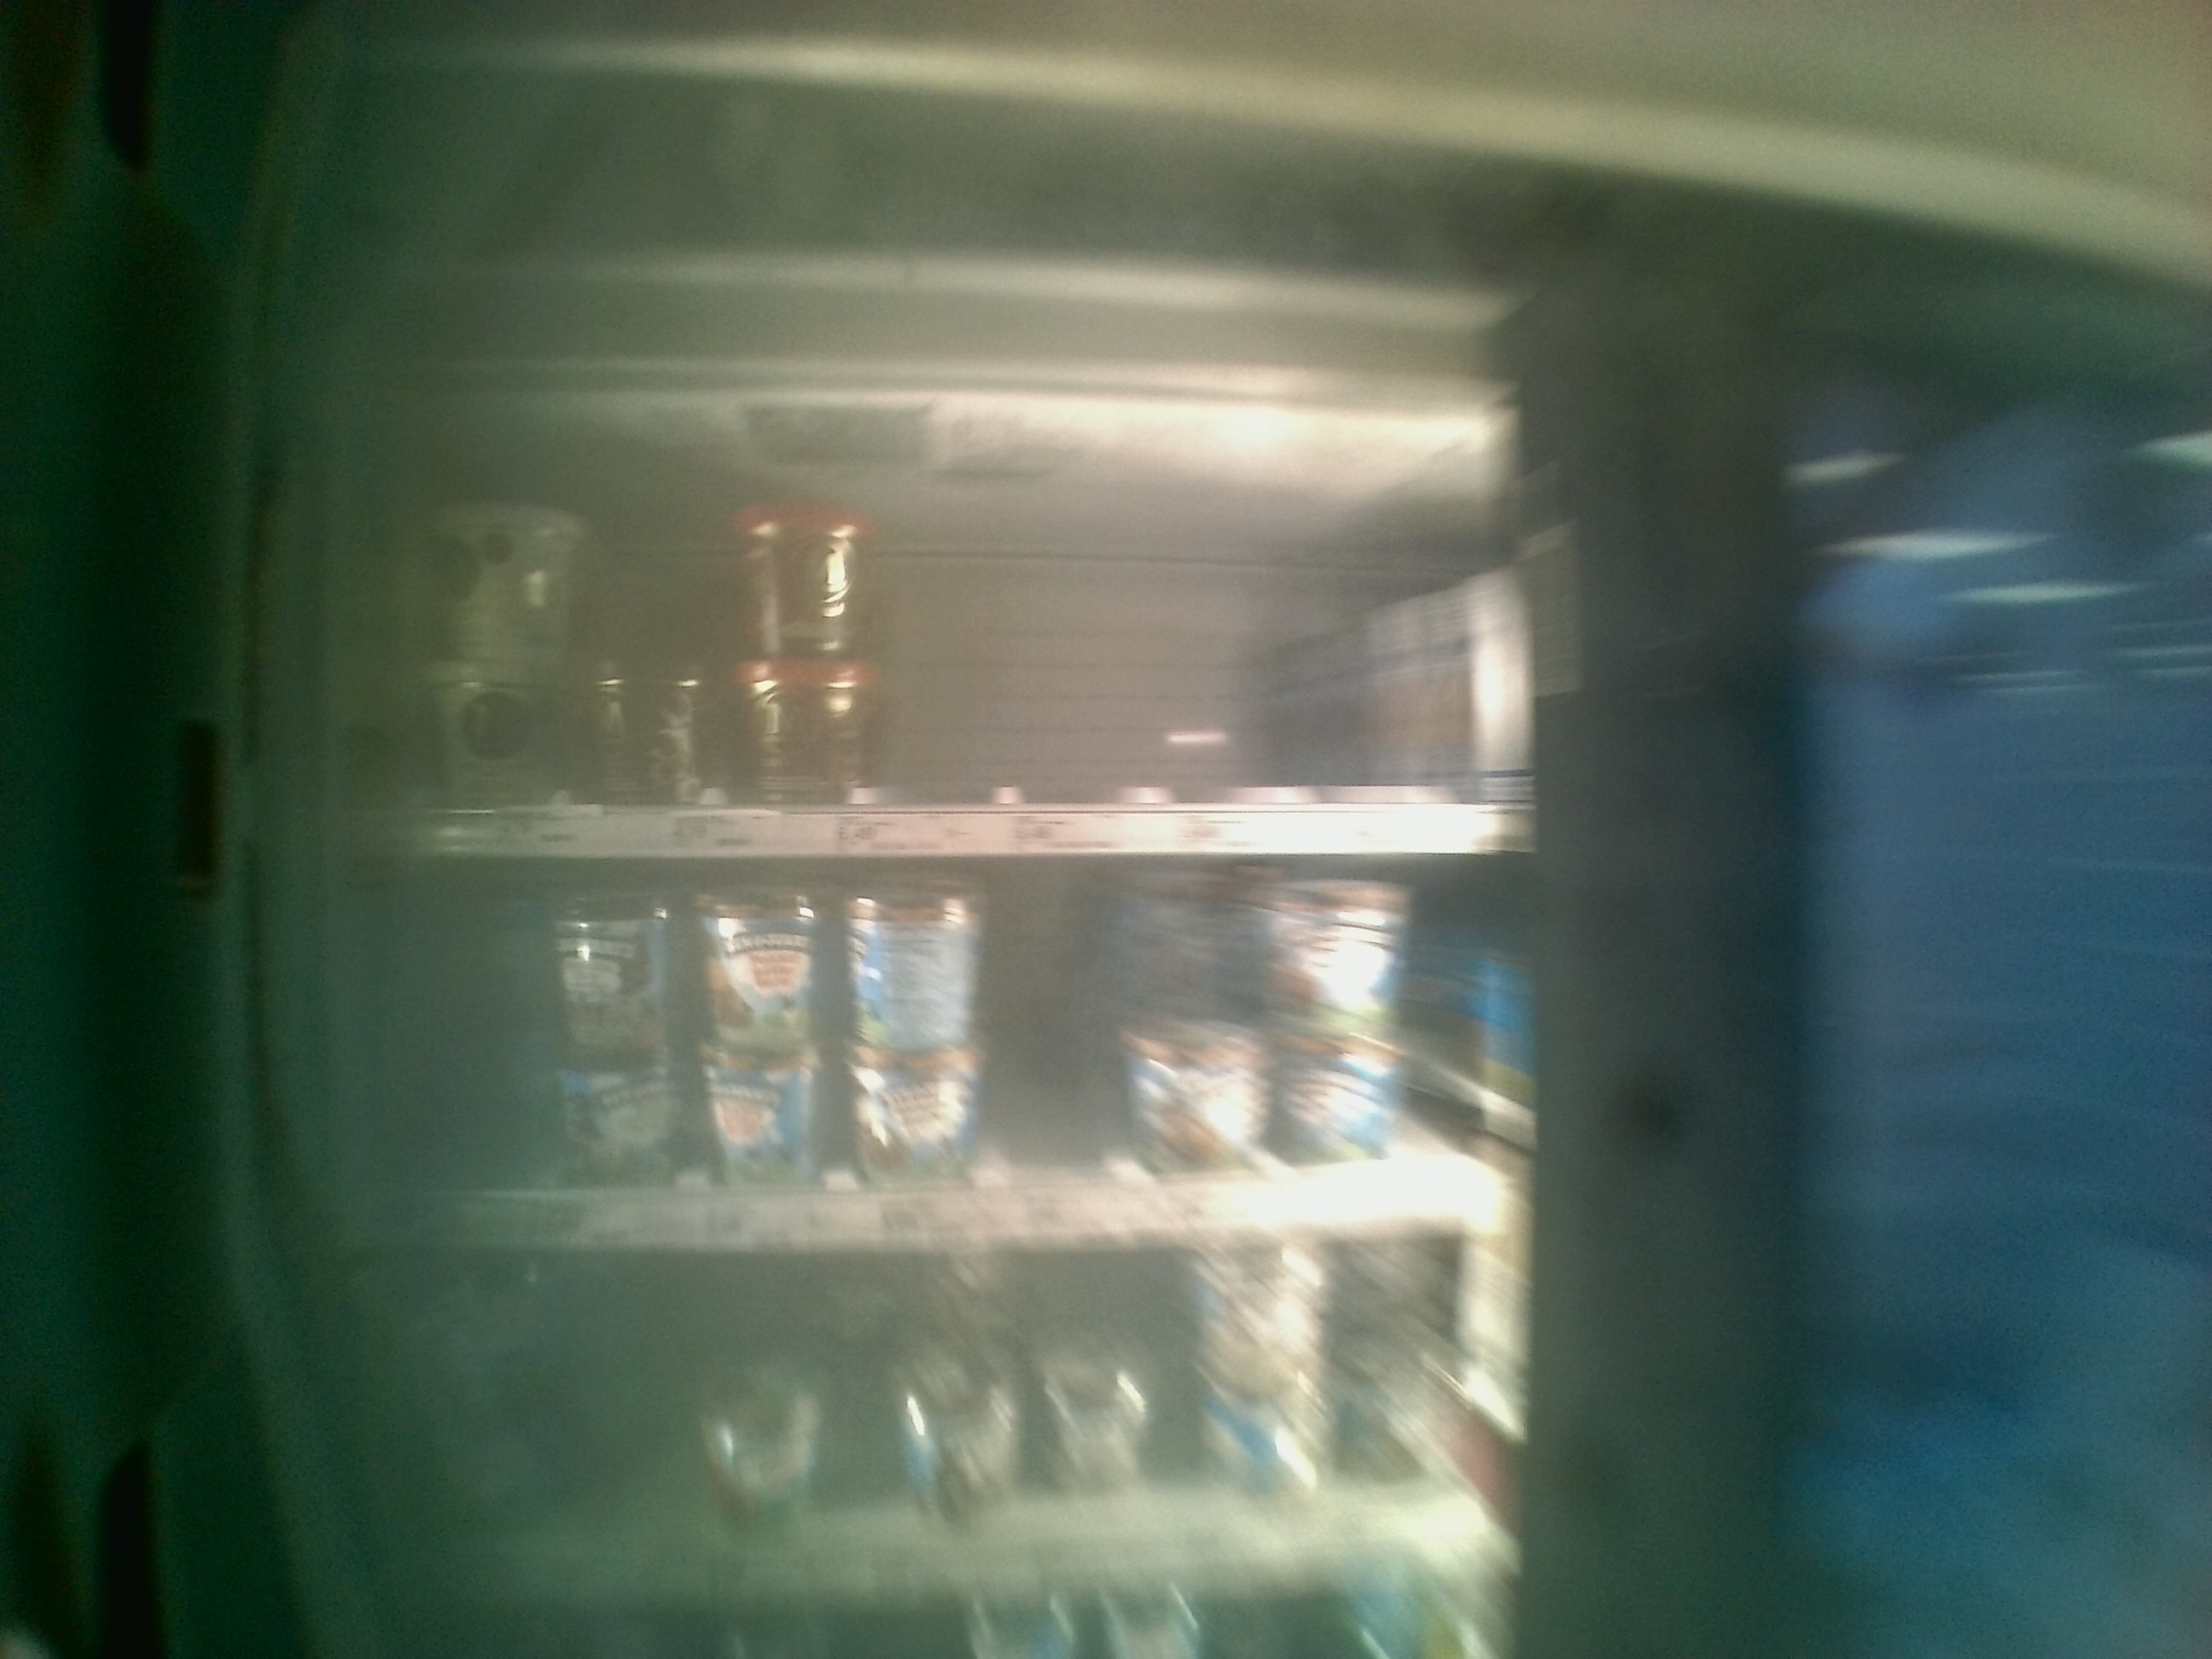shelf: (383, 416, 1536, 854), (381, 852, 1538, 1236)
